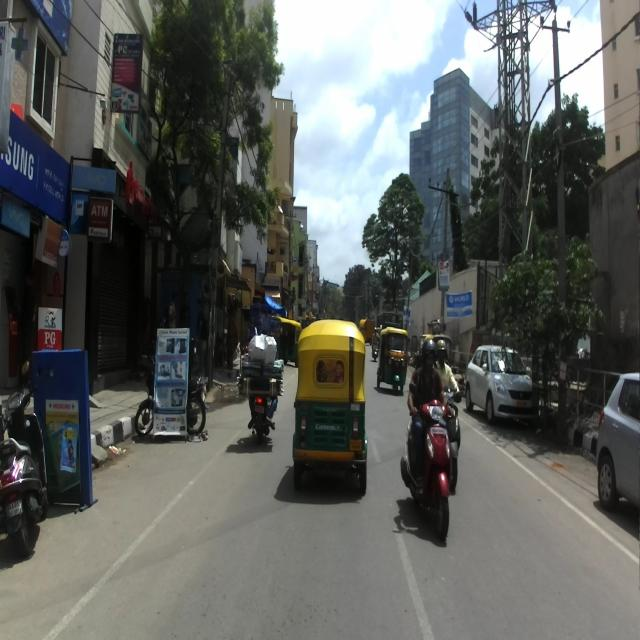Car_Maruti-Suzuki: (465, 344, 532, 425)
autorickshaw: (293, 319, 367, 495), (375, 320, 409, 390)
motorcycle_Hero: (134, 344, 209, 436)
scooter: (400, 382, 461, 542), (0, 360, 49, 558), (439, 376, 465, 493)
